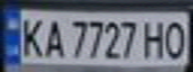2: (103, 17, 124, 60)
7: (84, 17, 106, 59), (121, 17, 142, 60), (66, 16, 87, 58)
A: (39, 16, 69, 60)
H: (139, 17, 169, 60)
K: (15, 15, 48, 58)
O: (160, 17, 190, 60)
